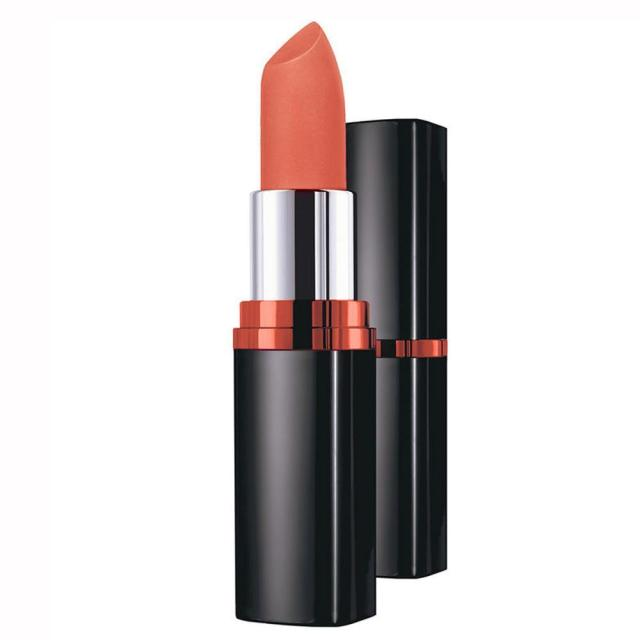lipstick: (222, 13, 378, 633)
